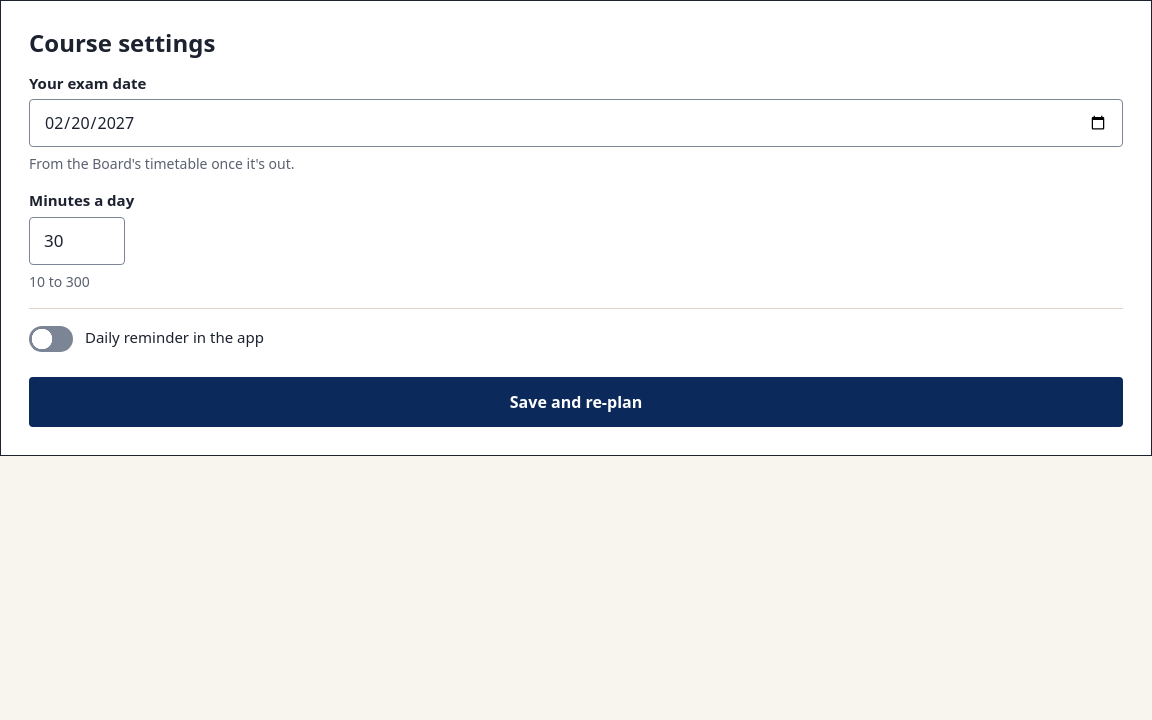
CourseSettings › sends 301 minutes as typed and shows the API's refusal in its words
Replace the text in the field labelled "Minutes a day" with "301" at (77, 241), box [29,217,125,265]
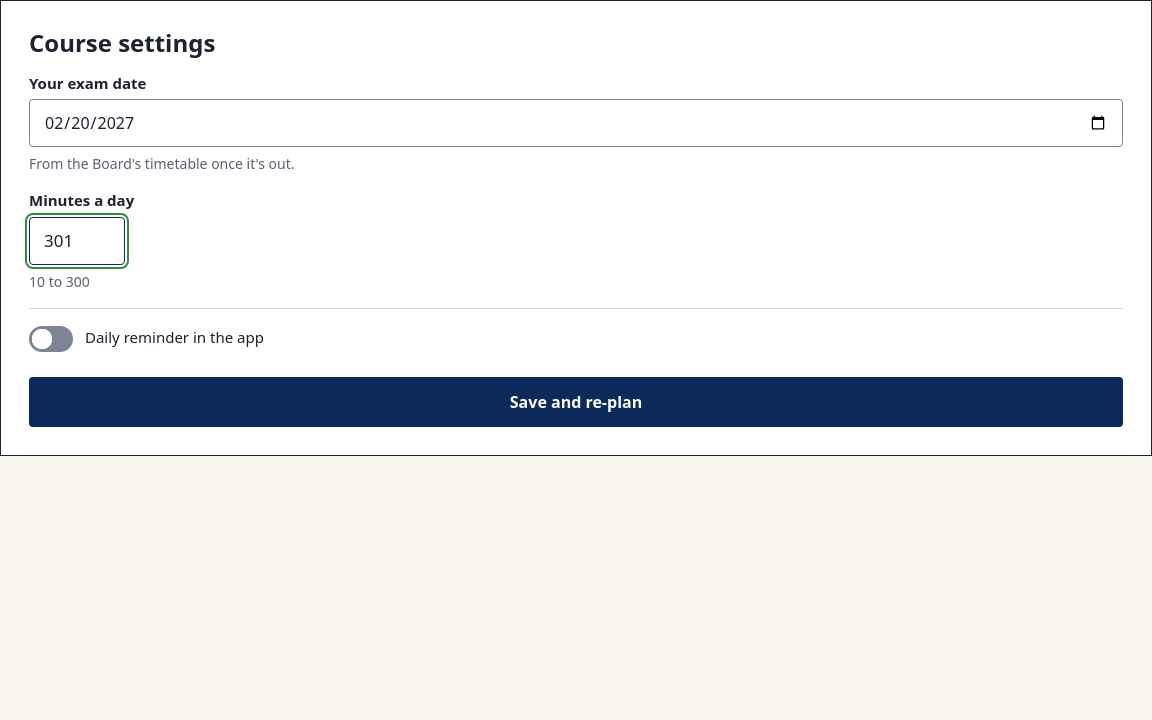
Click the button "Save and re-plan" at (576, 402), box [29,377,1123,427]
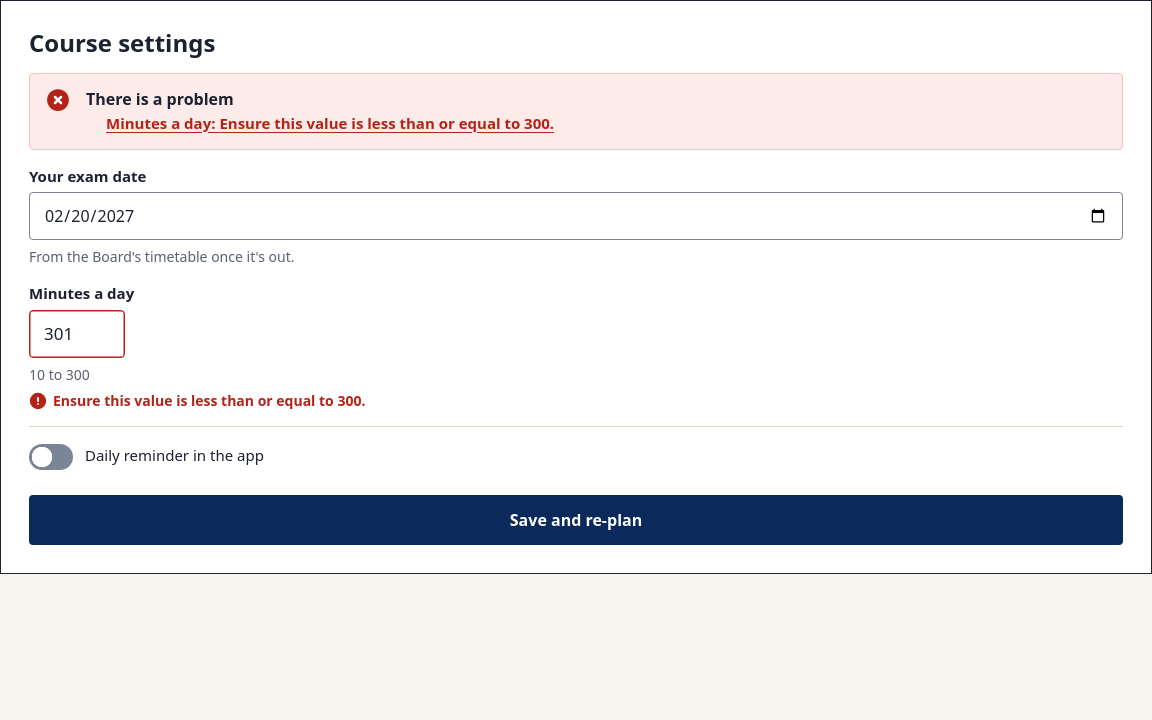
Result: the element with id "minutes_per_day-error" reads "Ensure this value is less than or equal to 300." at [53,391,365,410]
